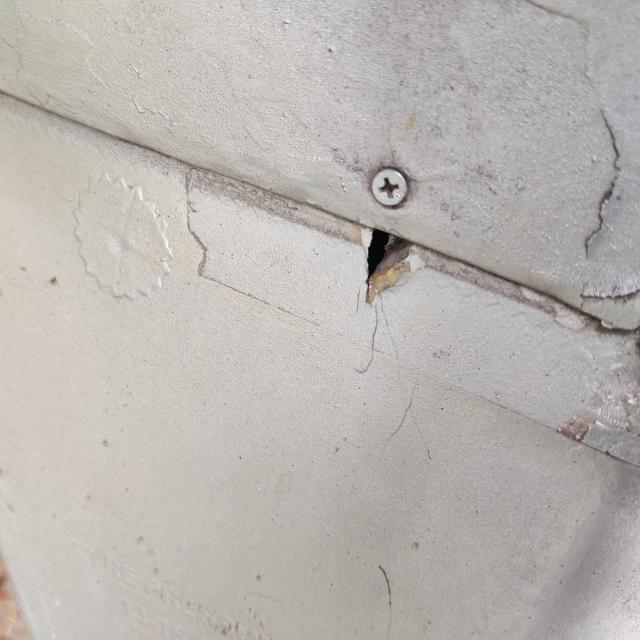crack: (329, 207, 448, 331)
